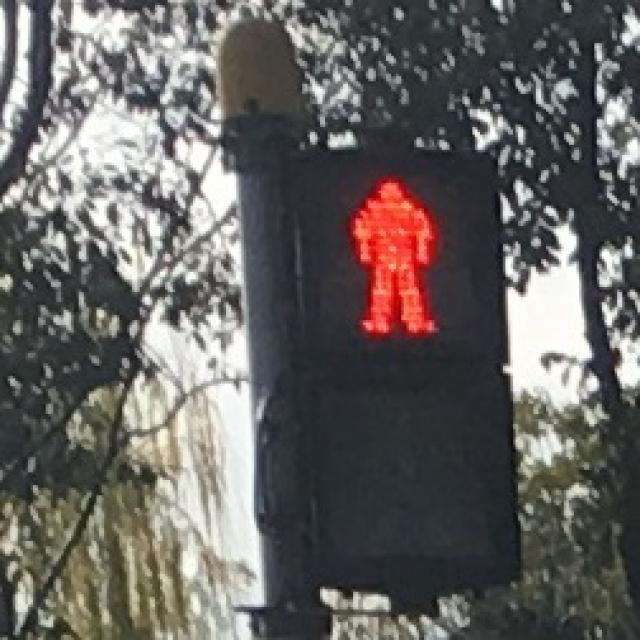red-crossing: (317, 155, 475, 353)
